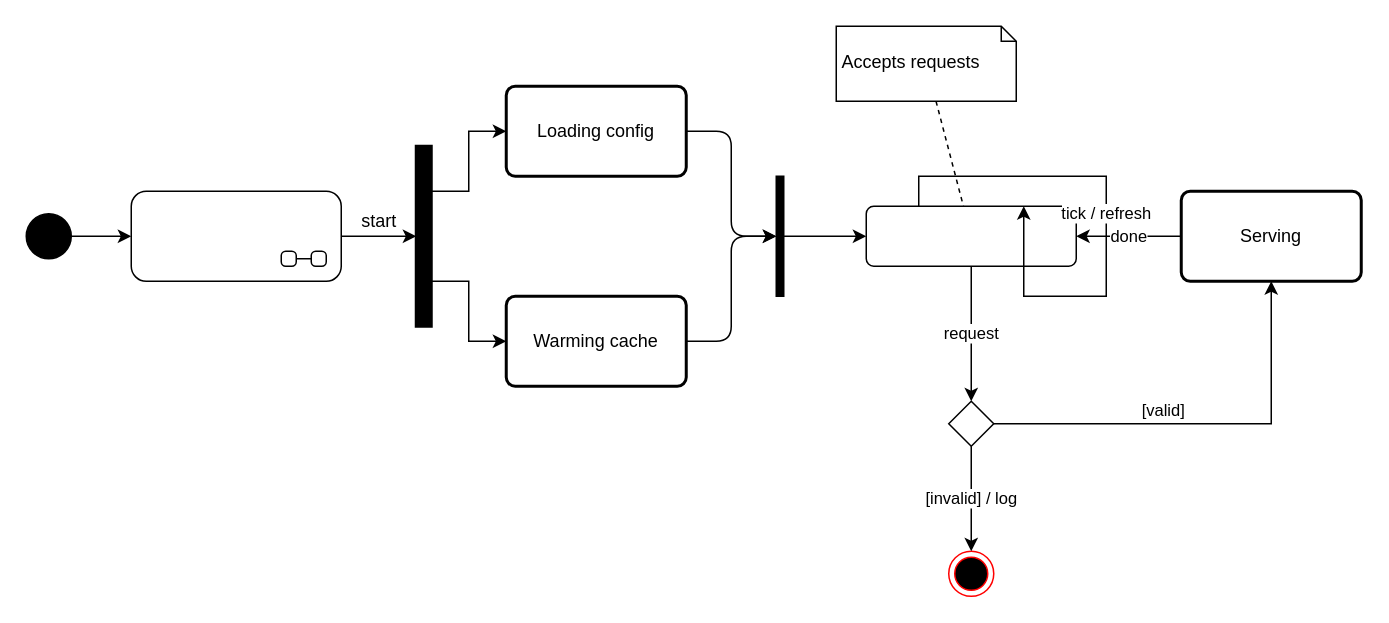
Image size: 1389x623. Some labels were removed from this diagram. Here are the shapes that lost their labels. From the top down, the centre of each, then its label:
At (x=235, y=235): "Booting".
At (x=970, y=235): "Ready".
